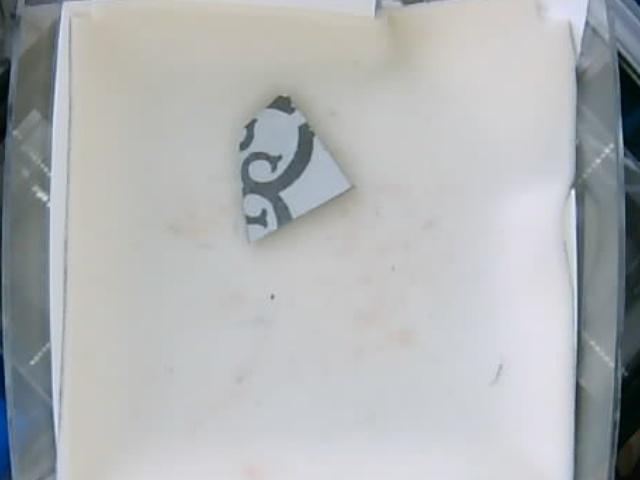China: (239, 91, 353, 241)
